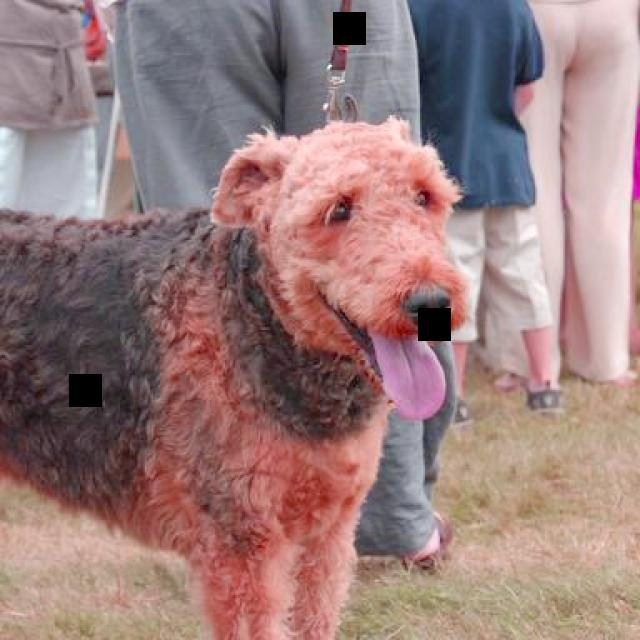adult_dog: (1, 116, 469, 640)
